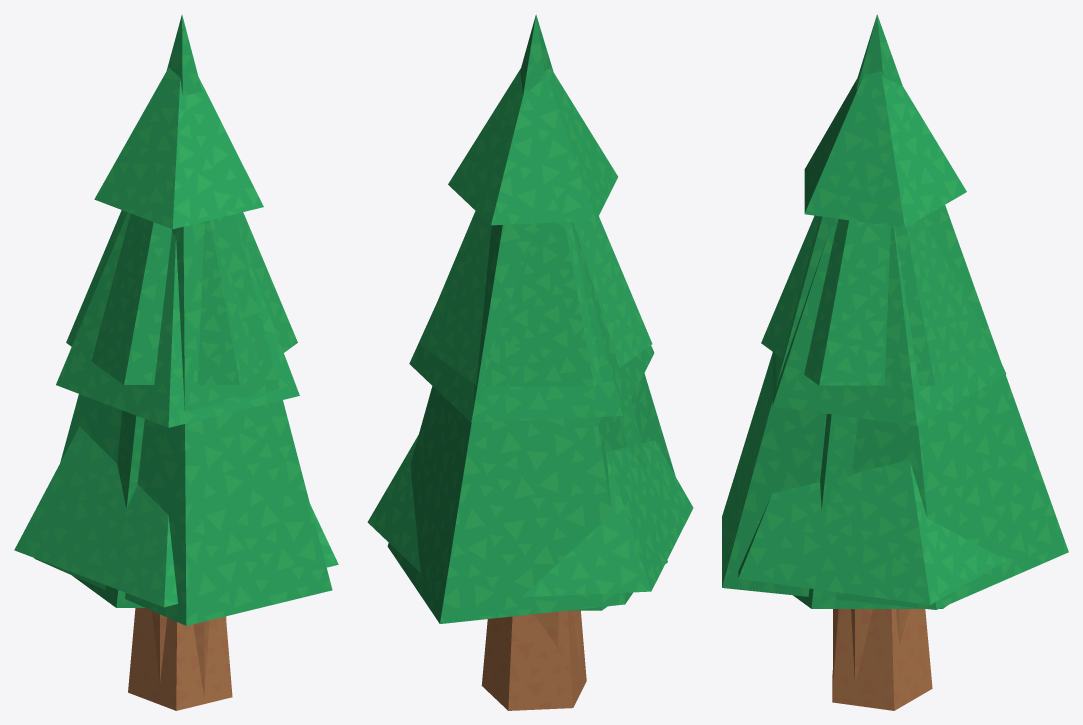
Rendered from pine_tree.glb.
3 views of the same model, side by side, from view 1: azimuth 30°, elevation 25°; view 2: azimuth 150°, elevation 25°; view 3: azimuth 270°, elevation 25° (orthographic).
Parts seen in each view (by area): view 1: pine_tree_c, pine_tree_a, pine_tree_b; view 2: pine_tree_c, pine_tree_a, pine_tree_b; view 3: pine_tree_c, pine_tree_a, pine_tree_b.
Boxes of the visible parts, x1,y1,x2,y2 form: pine_tree_c: [14, 67, 338, 710]; pine_tree_a: [34, 14, 332, 625]; pine_tree_b: [66, 210, 297, 697]; pine_tree_c: [367, 68, 693, 710]; pine_tree_a: [387, 14, 675, 623]; pine_tree_b: [419, 211, 667, 670]; pine_tree_c: [738, 71, 1006, 710]; pine_tree_a: [722, 14, 1068, 609]; pine_tree_b: [761, 215, 991, 684].
Size of the model in its own units: 1.9 by 4.32 by 2.01.
2 materials, 2 textured.
